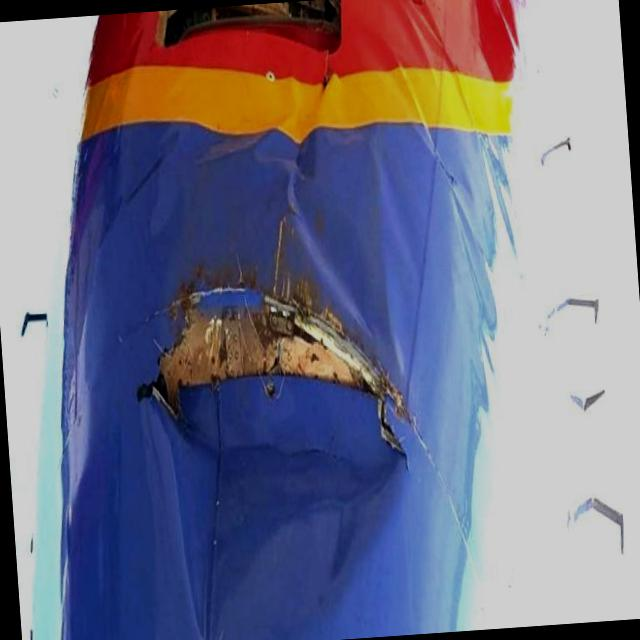crack: (132, 264, 418, 490)
